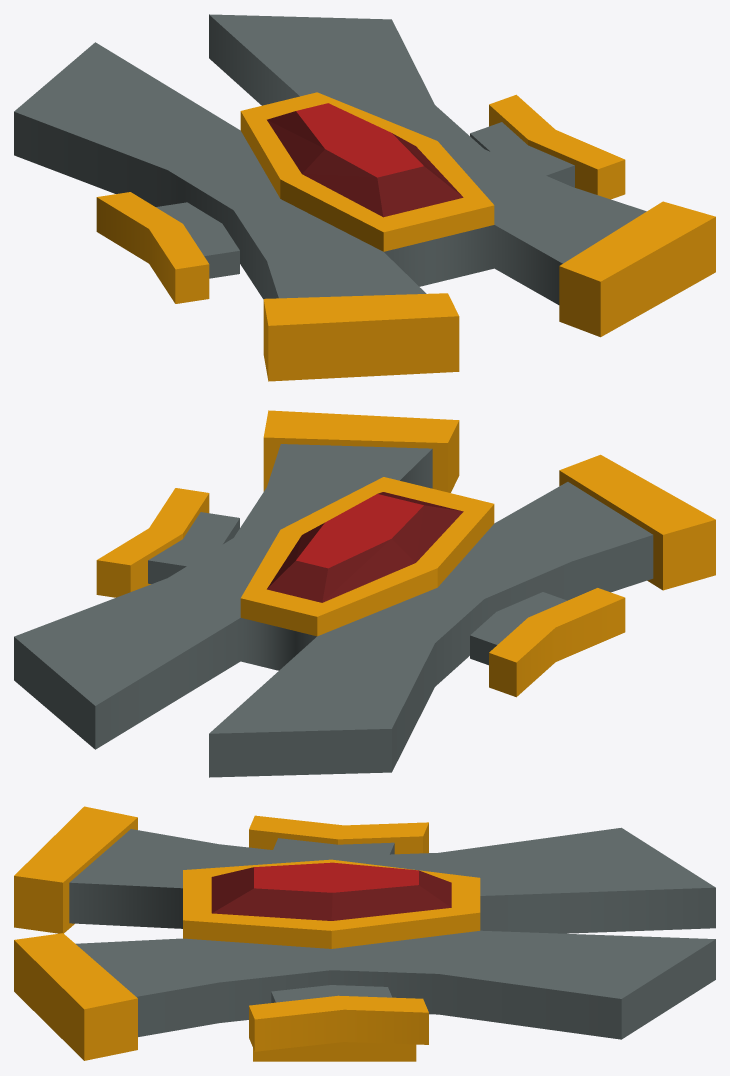
File: Big Shield 02.FBX
3 renders of one model, top to bottom at view 1: azimuth 30°, elevation 25°; view 2: azimuth 150°, elevation 25°; view 3: azimuth 270°, elevation 25°, orthographic. The views are drawn at different scales.
Visible parts, largest first — view 1: Big Shield 02; view 2: Big Shield 02; view 3: Big Shield 02.
Boxes of the visible parts, left/top/right/bottom form: Big Shield 02: left=14, top=14, right=715, bottom=381; Big Shield 02: left=14, top=410, right=715, bottom=777; Big Shield 02: left=14, top=806, right=715, bottom=1061.
Size of the model in its own units: 74.16 by 30.22 by 108.
